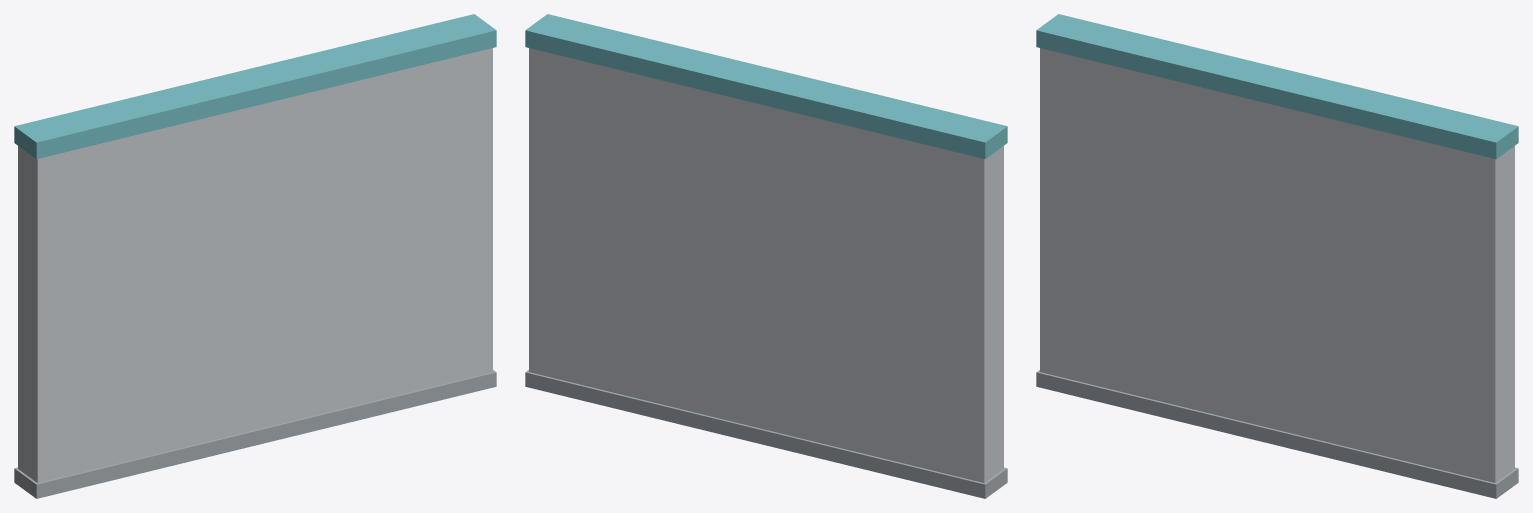
The model's file is wall.glb.
3 renders of one model, left to right at view 1: azimuth 30°, elevation 25°; view 2: azimuth 150°, elevation 25°; view 3: azimuth 330°, elevation 25°, orthographic.
Parts seen in each view (by area): view 1: WallPanel, TopTrim, BaseTrim; view 2: WallPanel, TopTrim, BaseTrim; view 3: WallPanel, TopTrim, BaseTrim.
Boxes of the visible parts, x1,y1,x2,y2 form: WallPanel: (18, 48, 492, 482); TopTrim: (14, 14, 496, 159); BaseTrim: (14, 370, 496, 498); WallPanel: (529, 48, 1003, 482); TopTrim: (525, 14, 1007, 159); BaseTrim: (525, 370, 1007, 498); WallPanel: (1040, 48, 1514, 482); TopTrim: (1036, 14, 1518, 159); BaseTrim: (1036, 370, 1518, 498).
Bounding box in the file's own units: 4.04 × 3 × 0.34.
